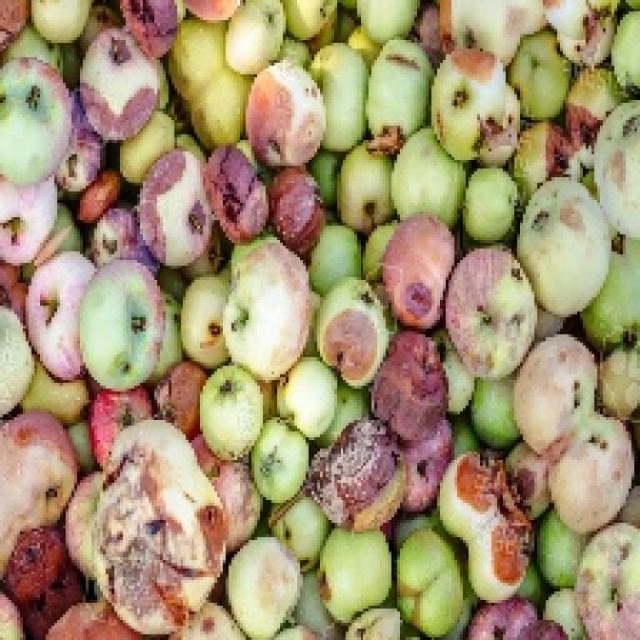rotten_apple: (134, 474, 226, 594), (451, 250, 530, 373), (323, 421, 403, 524), (431, 49, 505, 159), (142, 150, 213, 263), (84, 32, 158, 138), (317, 278, 390, 383), (5, 409, 72, 517), (251, 62, 321, 163), (380, 334, 446, 435), (388, 216, 449, 323), (214, 150, 270, 242), (441, 451, 500, 535), (4, 529, 66, 597), (570, 72, 618, 156), (274, 173, 324, 252), (517, 124, 569, 188), (156, 362, 201, 434)
